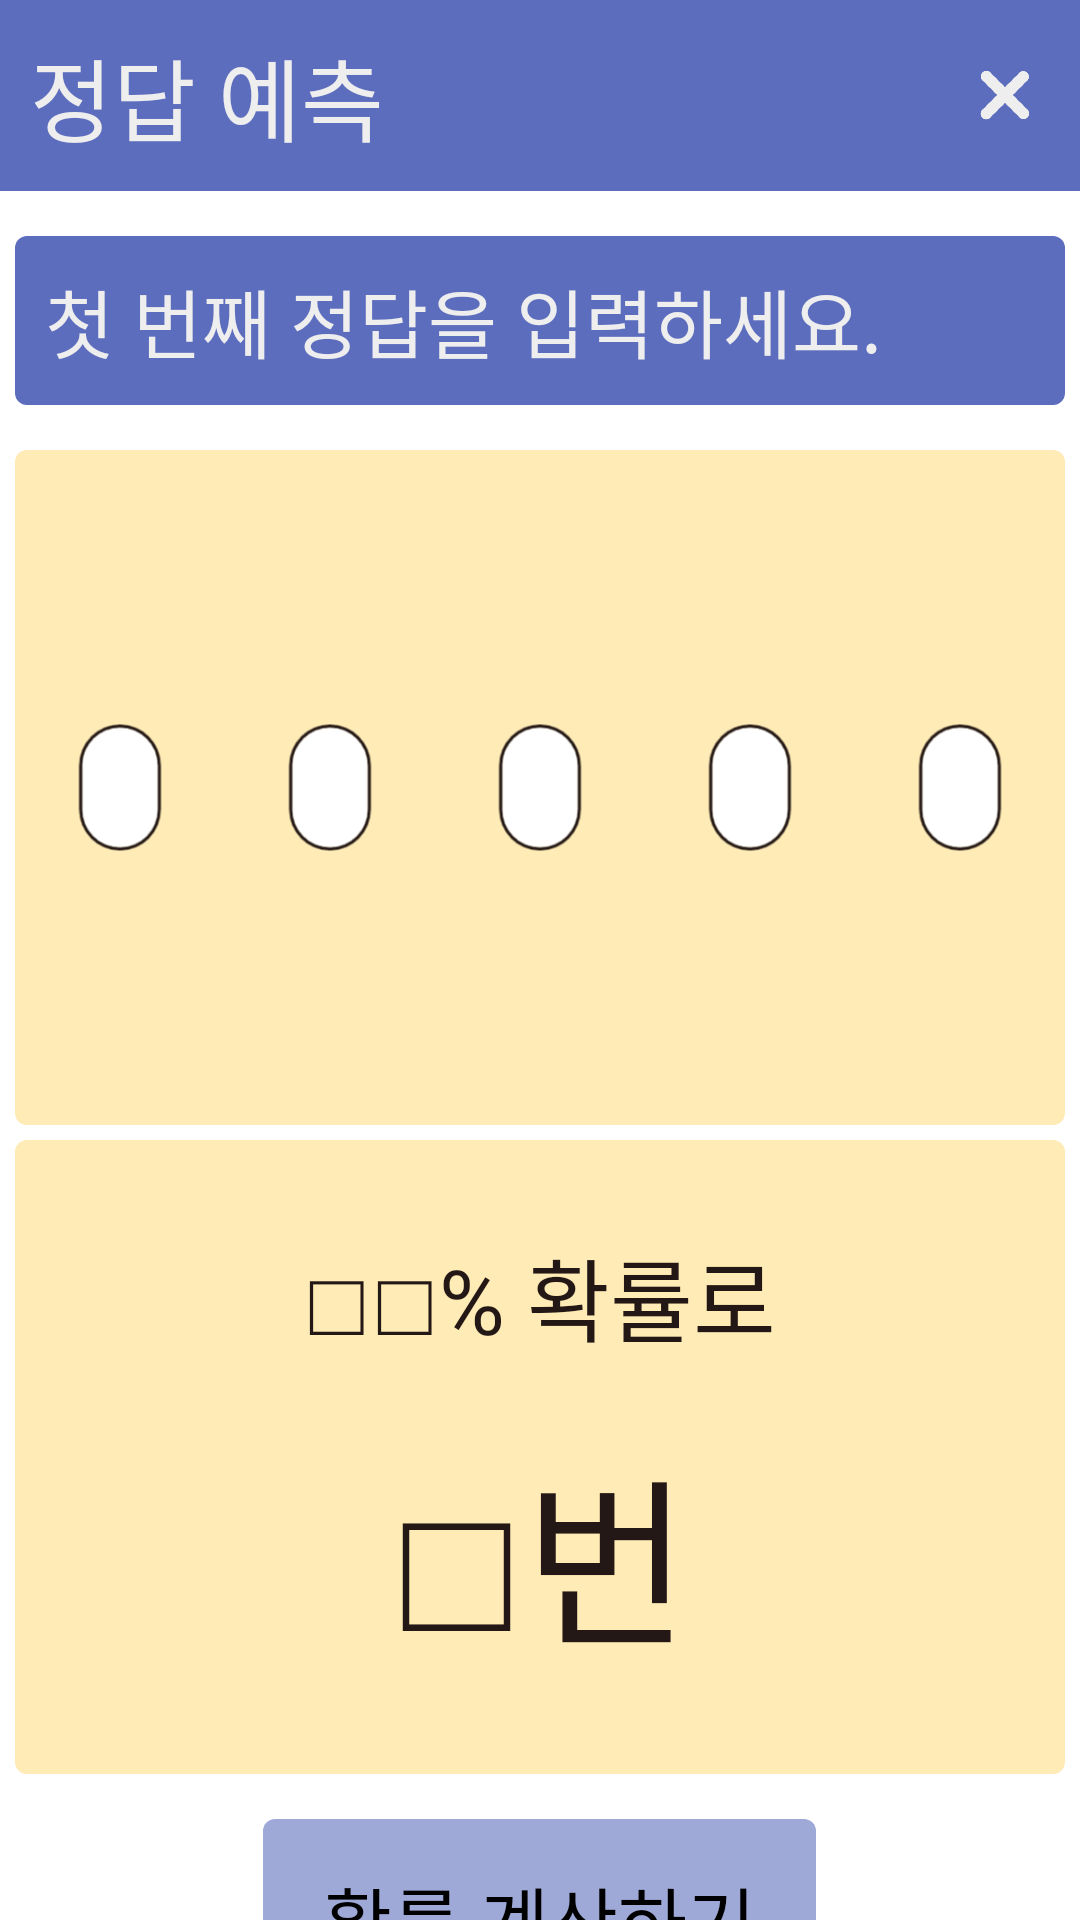

Where to tap for icons on this 1080px×1920px app screen, as (x=x, y=y):
exit: (x=1004, y=95)
omr empty: (x=120, y=787), (x=330, y=787), (x=540, y=787), (x=750, y=787), (x=960, y=787)
